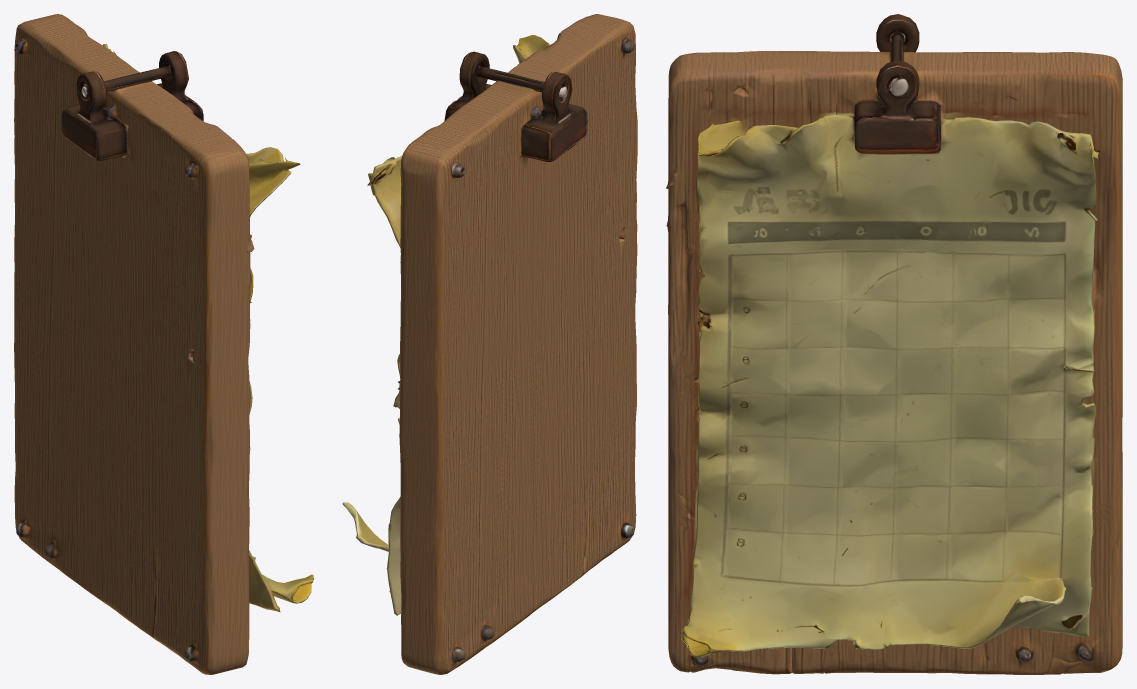
3 views of the same model, side by side, from view 1: azimuth 30°, elevation 25°; view 2: azimuth 150°, elevation 25°; view 3: azimuth 270°, elevation 25° (orthographic). The views are drawn at different scales.
Visible parts, largest first — view 1: tripo_node_e47e7ef3-eeec-4479-946e-18506c0bc43a; view 2: tripo_node_e47e7ef3-eeec-4479-946e-18506c0bc43a; view 3: tripo_node_e47e7ef3-eeec-4479-946e-18506c0bc43a.
Boxes of the visible parts, <box> form: tripo_node_e47e7ef3-eeec-4479-946e-18506c0bc43a: <box>14,14,313,674</box>; tripo_node_e47e7ef3-eeec-4479-946e-18506c0bc43a: <box>342,14,637,674</box>; tripo_node_e47e7ef3-eeec-4479-946e-18506c0bc43a: <box>666,14,1122,674</box>.
Bounding box in the file's own units: 0.3358 × 1 × 0.6617.
Materials: 1 (1 with a texture image).
